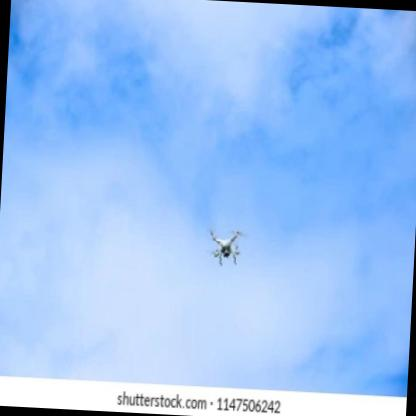plane: (205, 221, 250, 276)
